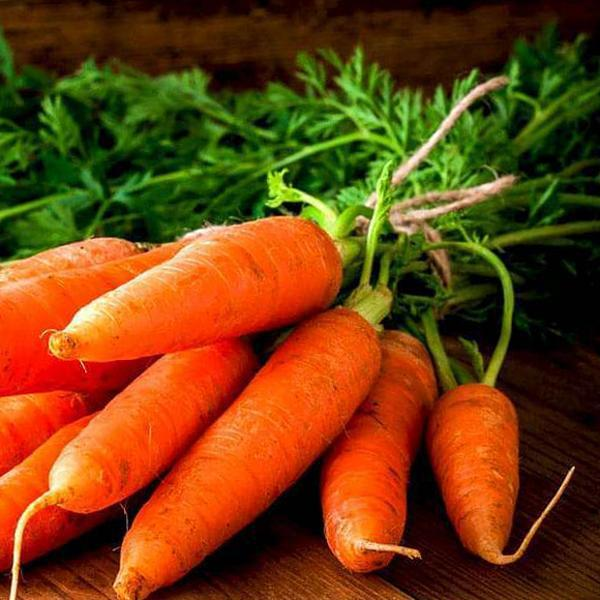carrot: (0, 220, 532, 567), (3, 215, 404, 584), (429, 379, 559, 566), (353, 310, 416, 574)
